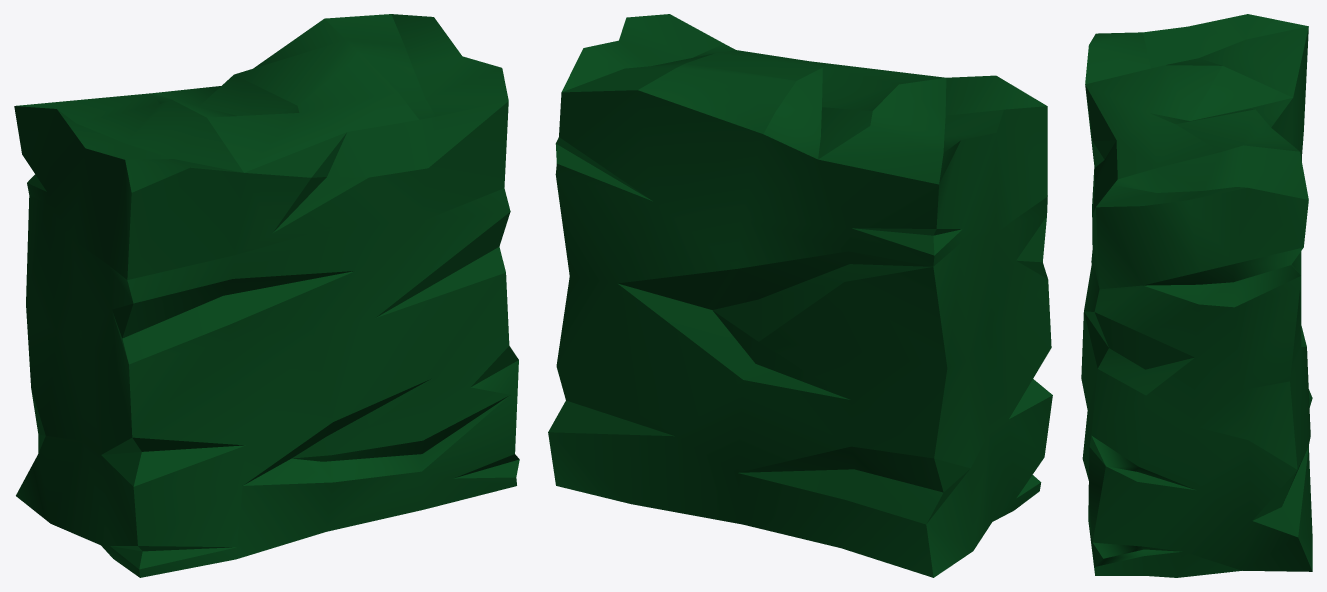
Rendered from Hedge_2.fbx.
The picture shows the model from 3 angles, left to right: view 1: azimuth 30°, elevation 25°; view 2: azimuth 150°, elevation 25°; view 3: azimuth 270°, elevation 25°; orthographic projection. The views are drawn at different scales.
Parts seen in each view (by area): view 1: Hedge_2; view 2: Hedge_2; view 3: Hedge_2.
Boxes of the visible parts, x1,y1,x2,y2 form: Hedge_2: (14,14,519,577); Hedge_2: (548,14,1052,577); Hedge_2: (1081,14,1312,577).
Bounding box in the file's own units: 48.84 × 47.24 × 25.53.
